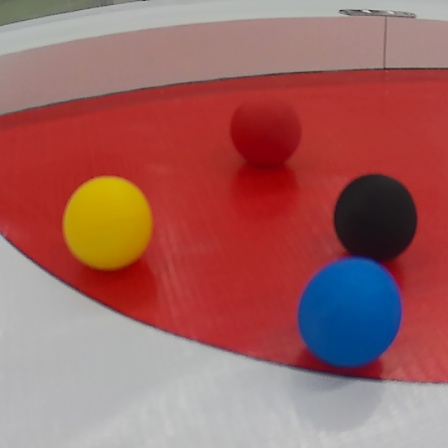black: (336, 172, 420, 262)
blue: (295, 250, 405, 370)
red: (229, 94, 305, 166)
red_base: (2, 52, 448, 386)
yellow: (61, 174, 154, 274)
